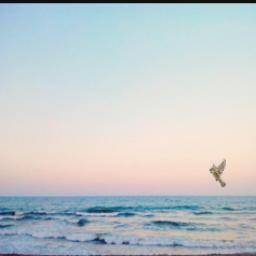Sparrow: (208, 159, 226, 188)
